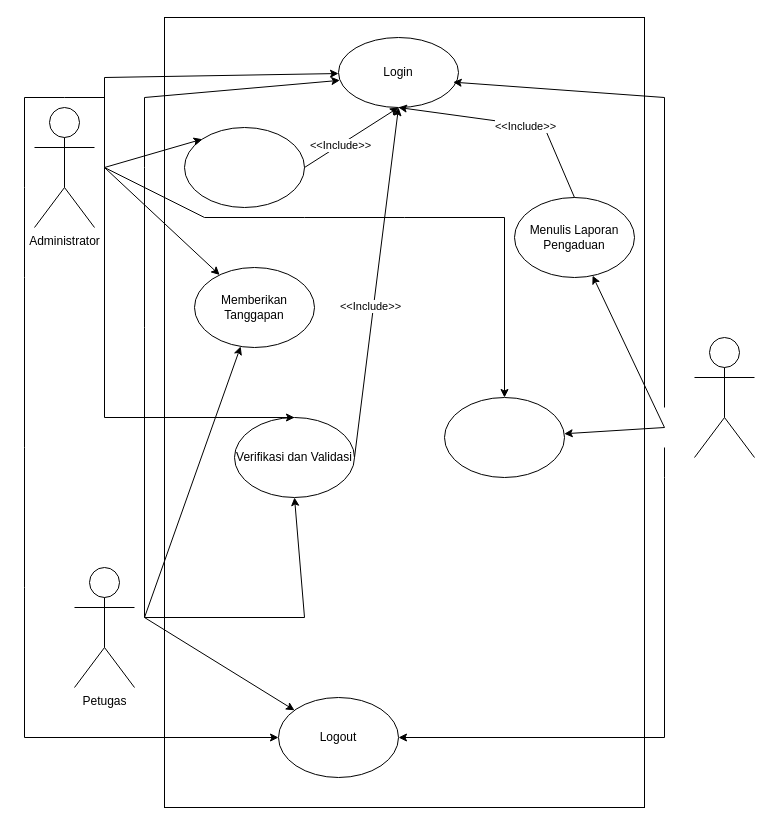
Image size: 773x825. Some labels were removed from this diagram. The box of each missing label's shape, as (x1, y1, x2, y2) in pixels:
Generate Laporan: (184, 126, 304, 208)
Masyarakat: (694, 336, 754, 458)
Registrasi: (444, 396, 564, 478)
